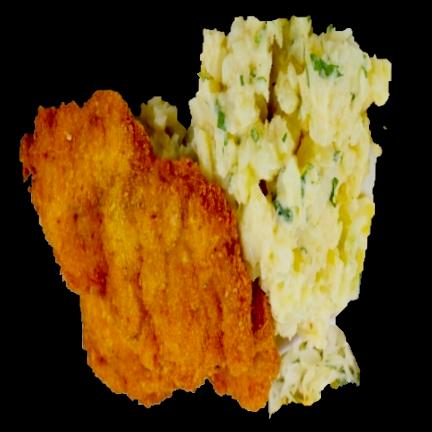chicken: (21, 91, 260, 401)
potato: (141, 17, 392, 347)
